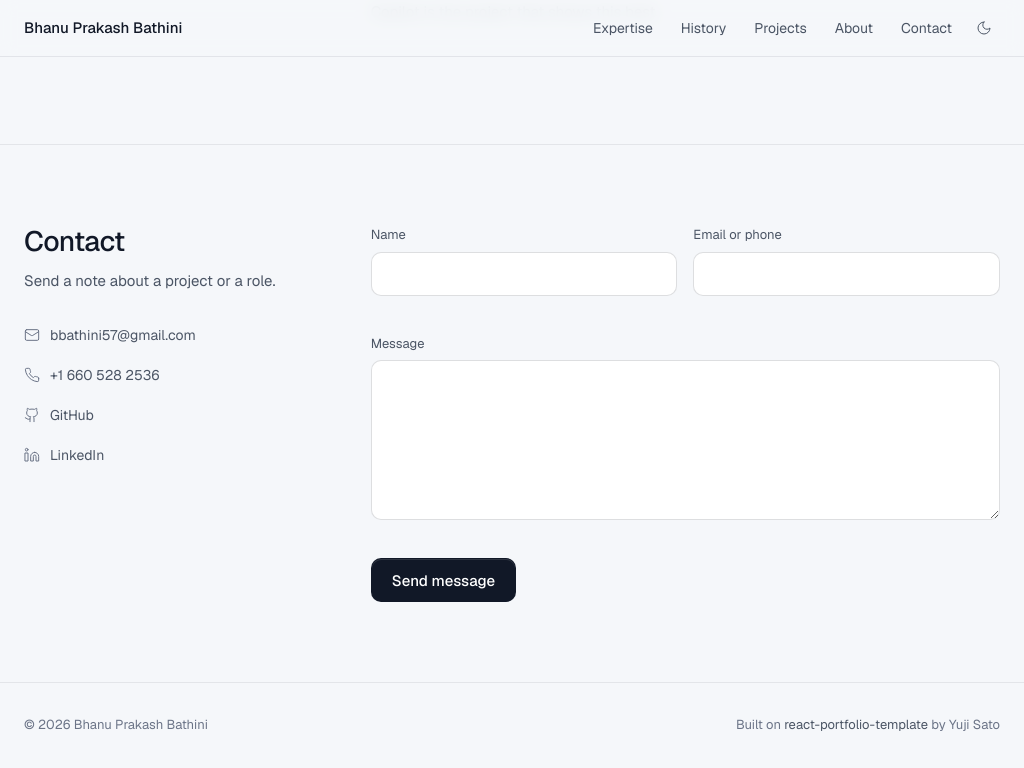
it: contact form shows errors for empty fields instead of sending
(page scrolled)
Click the button "Send message".
click(443, 580)  # box [371,558,516,602]
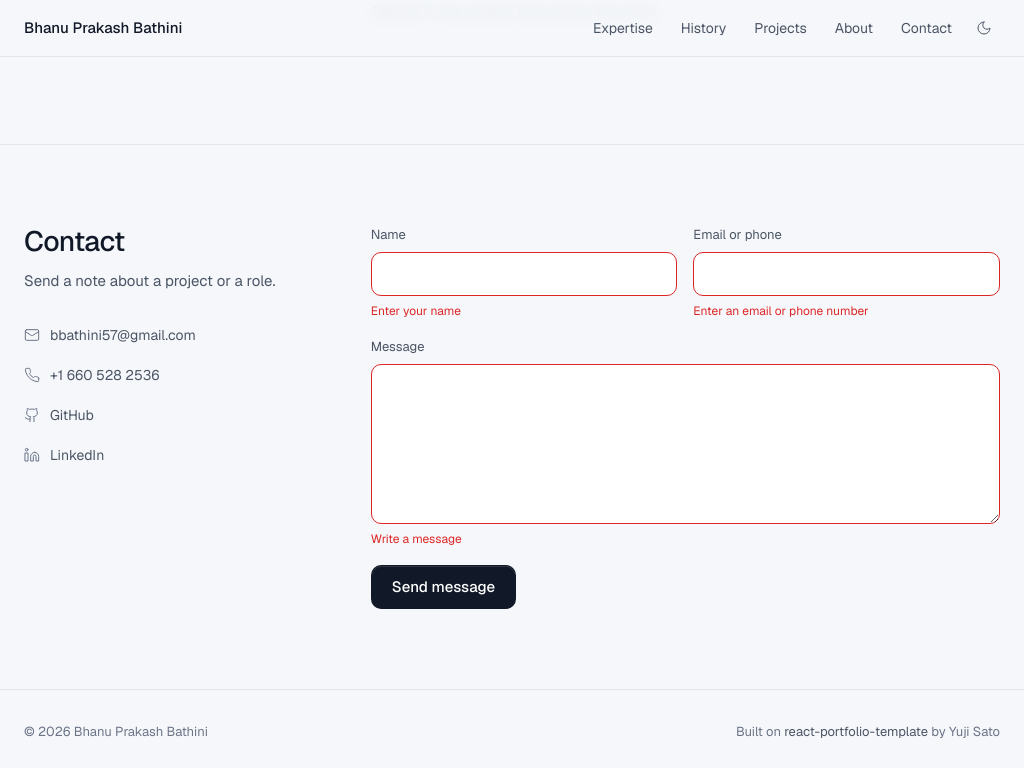
Result: the text "Enter your name" is shown at [371,303,461,319]
Result: the text "Write a message" is shown at [371,531,462,547]
